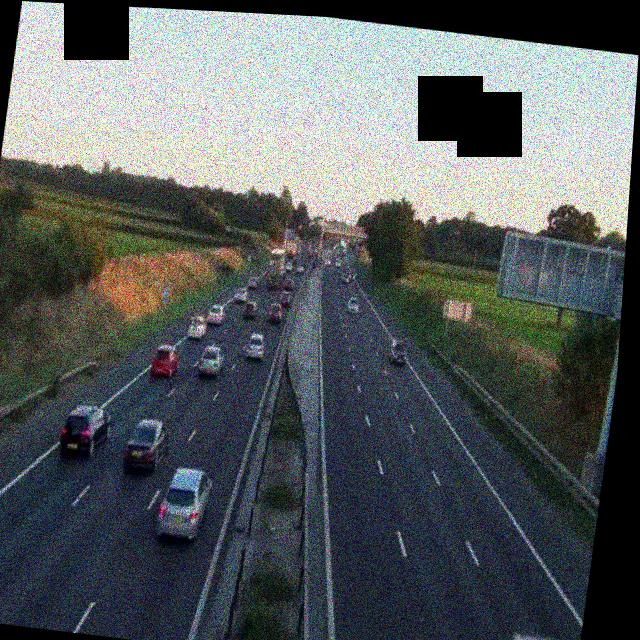bus: (262, 246, 286, 289)
car: (155, 464, 213, 542), (56, 401, 112, 463), (121, 415, 171, 476), (149, 344, 181, 380), (196, 342, 224, 378), (244, 332, 266, 360), (387, 337, 409, 365), (187, 315, 207, 339), (206, 304, 224, 327), (265, 303, 283, 326), (345, 295, 360, 314), (238, 285, 252, 304), (279, 289, 293, 306), (282, 278, 294, 294), (340, 270, 350, 284), (346, 271, 356, 283)
truck: (499, 631, 581, 640)
